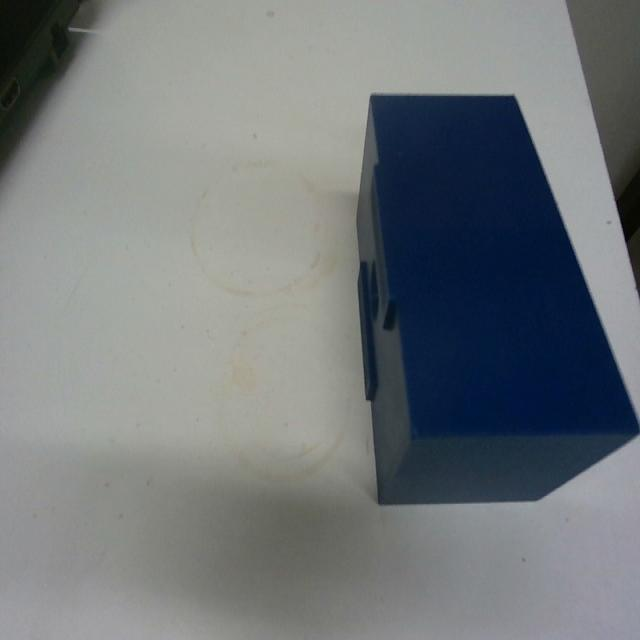Blue Cuboid: (352, 88, 639, 507)
